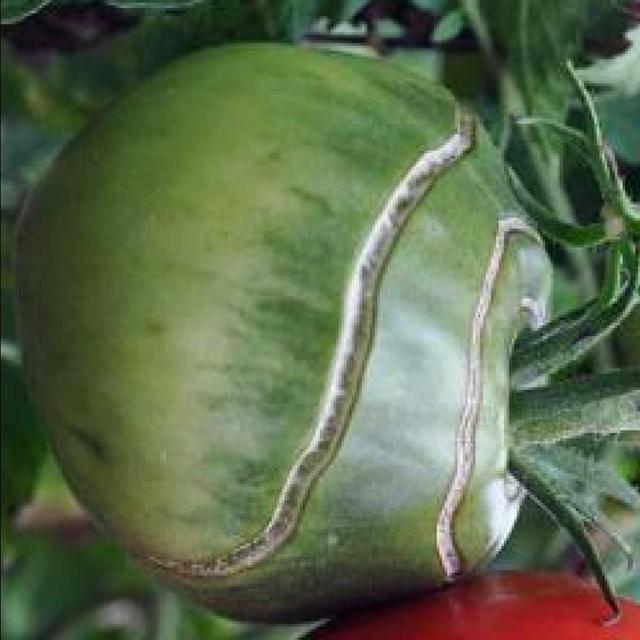Cracking Fruit: (79, 227, 330, 332)
